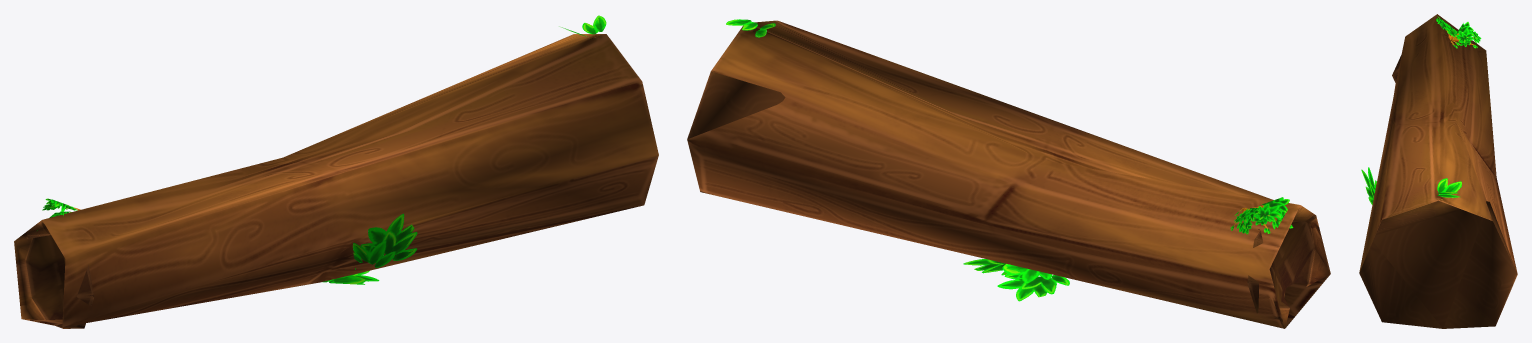
Rendered from 11_Tronco_Verde_Claro_LOD_1.fbx.
3 renders of one model, left to right at view 1: azimuth 30°, elevation 25°; view 2: azimuth 150°, elevation 25°; view 3: azimuth 270°, elevation 25°, orthographic. The views are drawn at different scales.
Visible parts, largest first — view 1: 11_Tronco_Verde_Claro_LOD_1; view 2: 11_Tronco_Verde_Claro_LOD_1; view 3: 11_Tronco_Verde_Claro_LOD_1.
Part boxes in pixels (x1,y1,x2,y2): 11_Tronco_Verde_Claro_LOD_1: [14, 15, 658, 328]; 11_Tronco_Verde_Claro_LOD_1: [687, 19, 1330, 328]; 11_Tronco_Verde_Claro_LOD_1: [1359, 14, 1517, 328].
Size of the model in its own units: 576 by 186 by 166.
